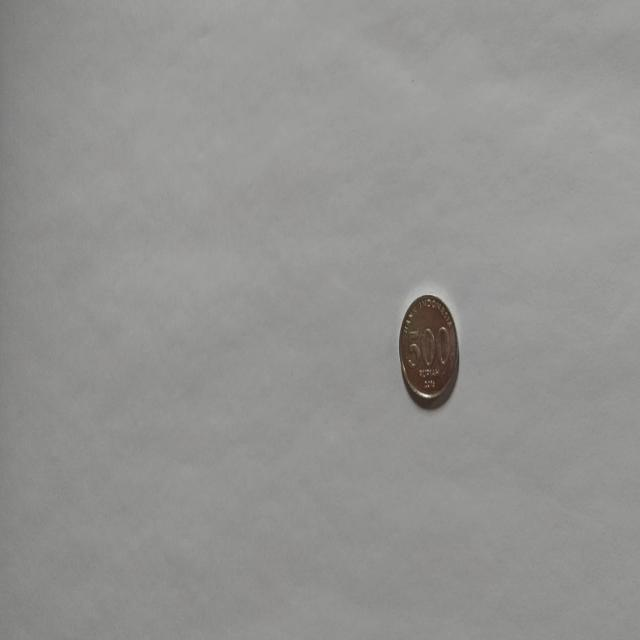lima ratus rupiah: (398, 292, 460, 408)
